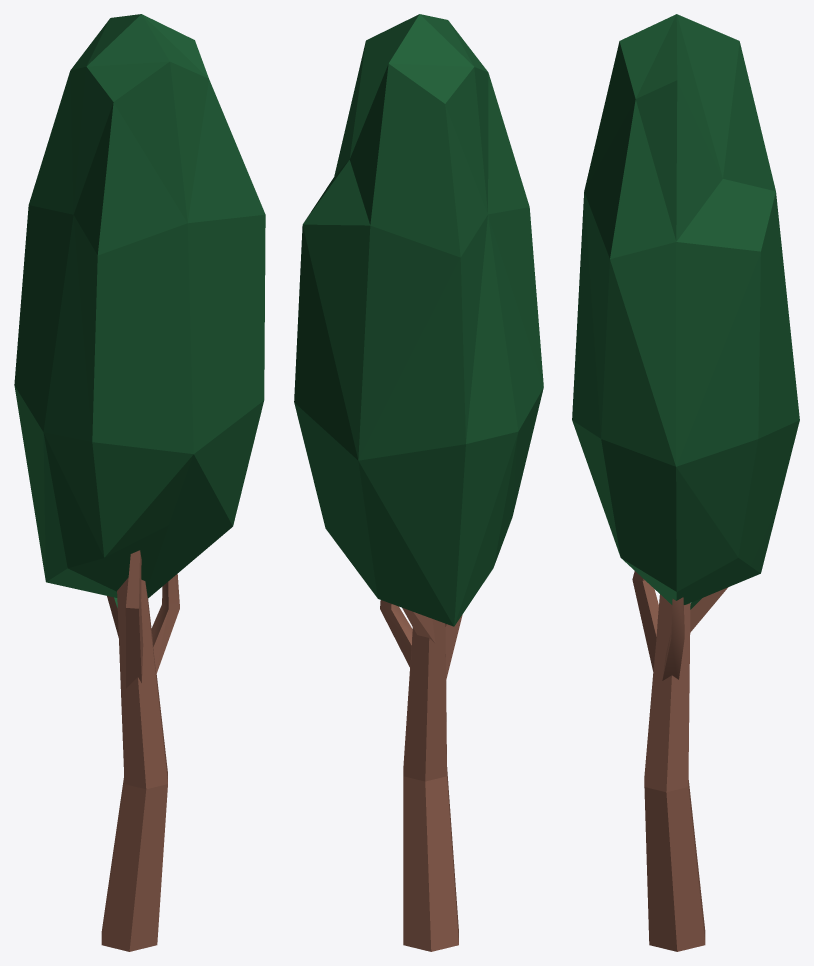
Rendered from Tree_temp_climate_004 1.fbx.
3 views of the same model, side by side, from view 1: azimuth 30°, elevation 25°; view 2: azimuth 150°, elevation 25°; view 3: azimuth 270°, elevation 25° (orthographic).
Visible parts, largest first — view 1: Tree_temp_climate_004; view 2: Tree_temp_climate_004; view 3: Tree_temp_climate_004.
Boxes of the visible parts, x1,y1,x2,y2 form: Tree_temp_climate_004: (14,14,265,951); Tree_temp_climate_004: (294,14,543,951); Tree_temp_climate_004: (572,14,799,951).
Bounding box in the file's own units: 153 × 640 × 142.
